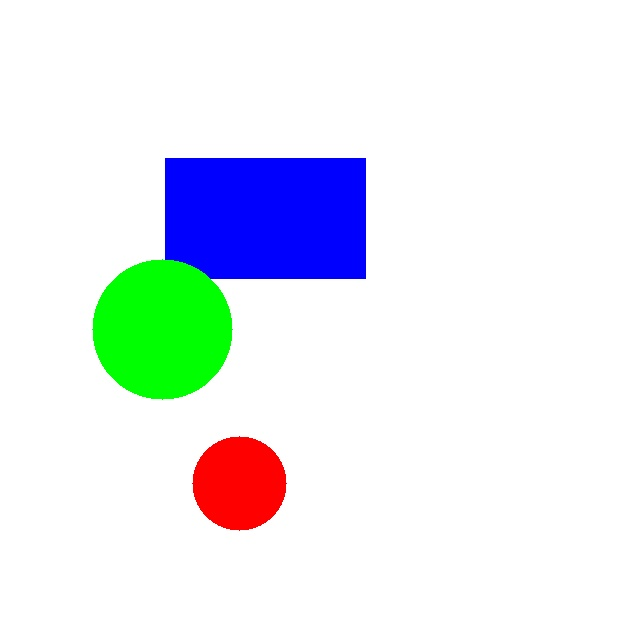cartao: (165, 158, 365, 278)
rosca_externa: (92, 259, 232, 399)
rosca_interna: (192, 436, 286, 530)
